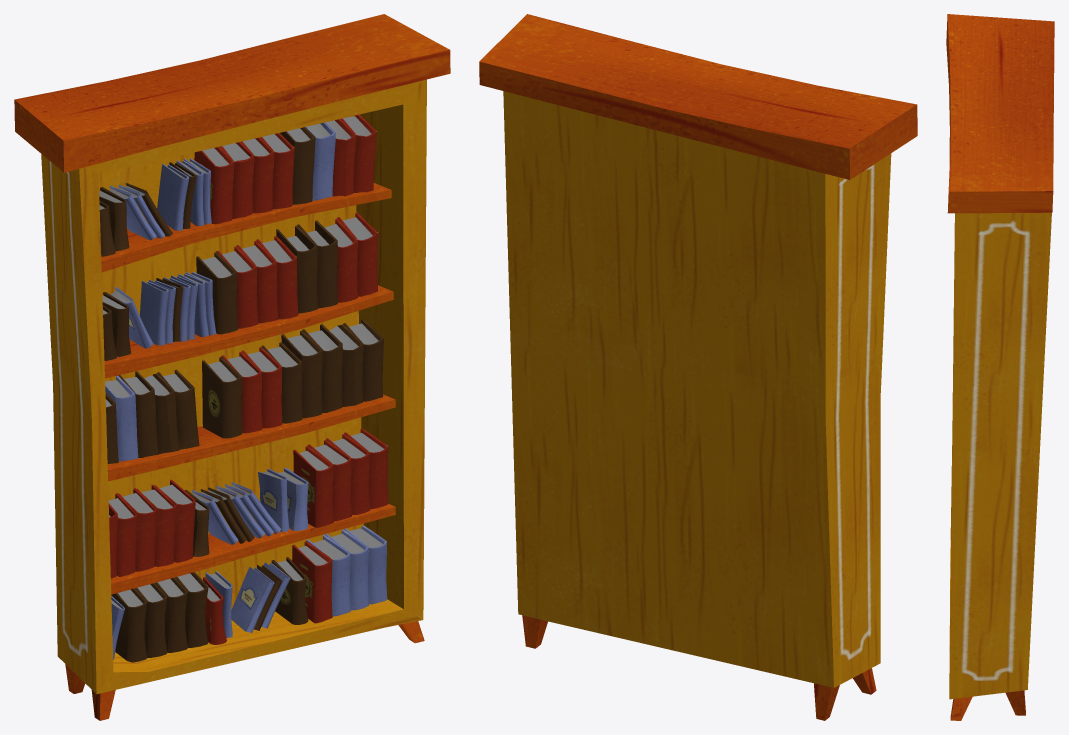
The model's file is bookcases_from_secrets_neighbor.glb.
The picture shows the model from 3 angles, left to right: view 1: azimuth 30°, elevation 25°; view 2: azimuth 150°, elevation 25°; view 3: azimuth 270°, elevation 25°; orthographic projection. The views are drawn at different scales.
Visible parts, largest first — view 1: SN_LargeBookcase; view 2: SN_LargeBookcase; view 3: SN_LargeBookcase.
Boxes of the visible parts, x1,y1,x2,y2 form: SN_LargeBookcase: (14,14,450,720); SN_LargeBookcase: (479,14,917,720); SN_LargeBookcase: (946,14,1054,720).
Bounding box in the file's own units: 1.33 × 1.95 × 0.3507.
Materials: 7 (6 with a texture image).
